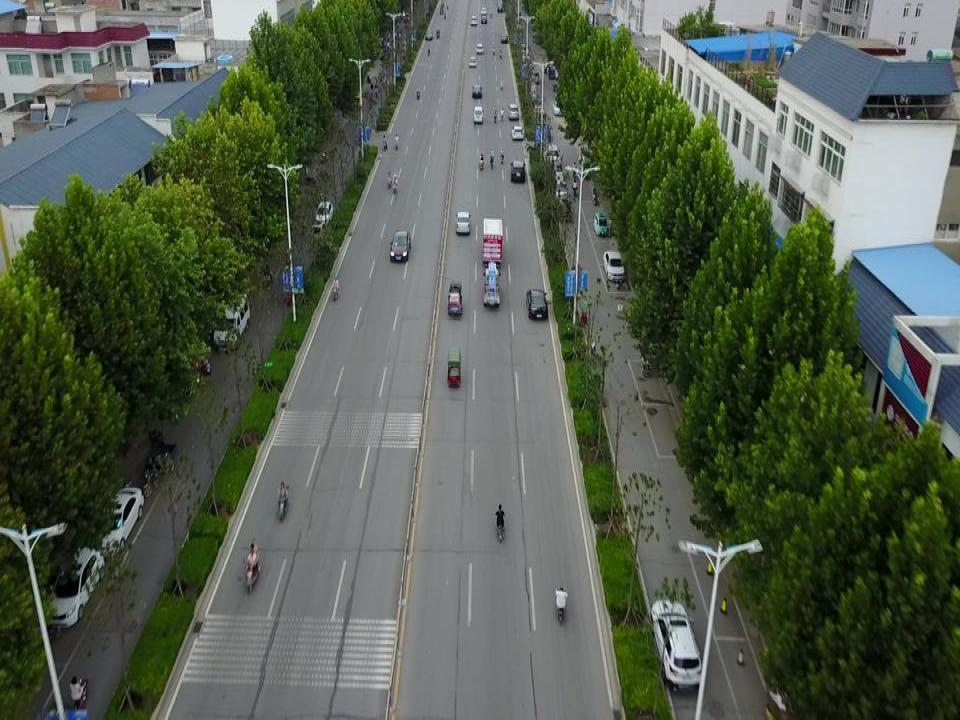car: (647, 603, 705, 684), (52, 545, 104, 628), (98, 482, 145, 554), (525, 287, 549, 317), (603, 251, 626, 277), (391, 229, 408, 260), (551, 163, 567, 188), (552, 180, 569, 203), (510, 158, 526, 182), (546, 141, 561, 164), (456, 211, 471, 233), (551, 99, 567, 116), (512, 124, 524, 141), (532, 102, 544, 117), (470, 84, 481, 95), (498, 1, 506, 12), (469, 56, 477, 67), (476, 43, 484, 53), (471, 16, 478, 25), (425, 31, 432, 40), (502, 35, 508, 44)
truck: (484, 268, 501, 305), (445, 349, 462, 386), (448, 278, 463, 314)
van: (214, 288, 250, 347), (508, 103, 519, 120), (474, 105, 482, 124), (530, 68, 539, 83), (528, 87, 536, 100)
